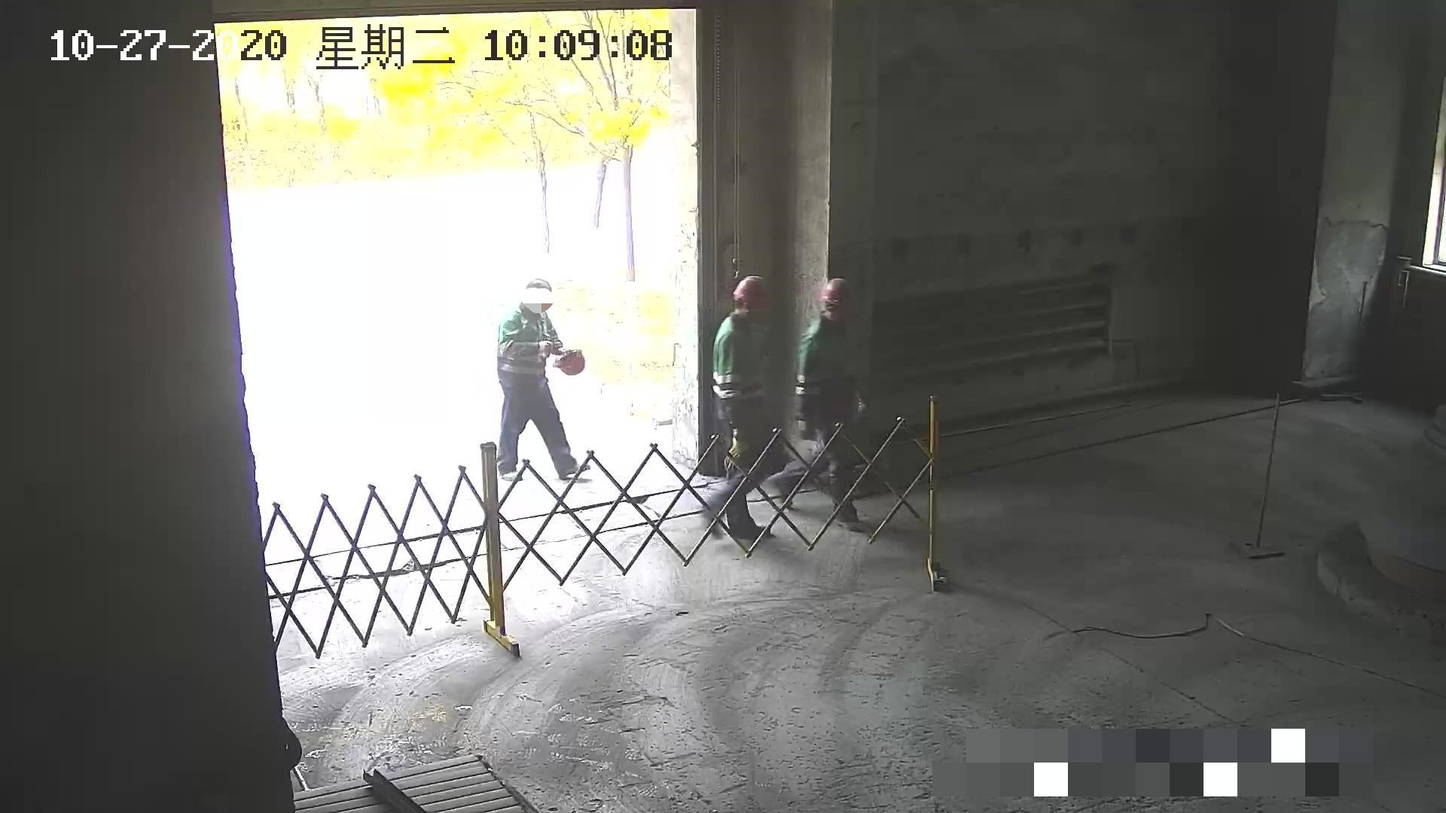hat: (733, 276, 768, 316), (818, 278, 853, 318)
head: (524, 278, 551, 313)
person: (770, 276, 870, 530), (494, 276, 592, 482), (701, 274, 772, 541)
